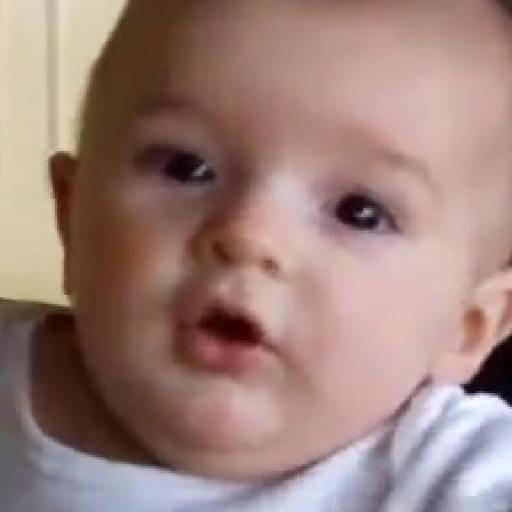Autism: (100, 2, 512, 468)
